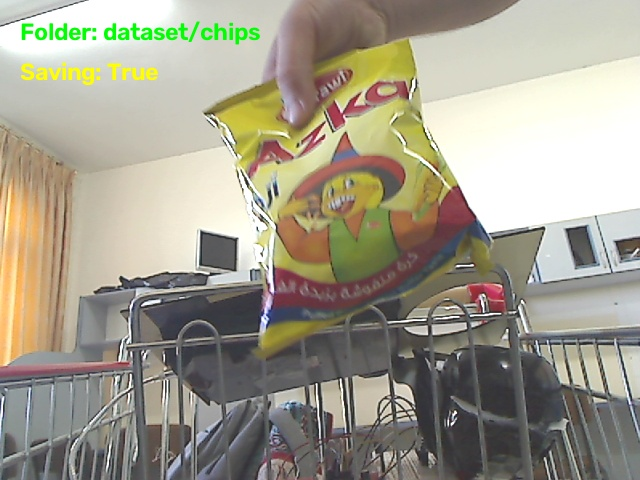chips: (205, 41, 490, 356)
